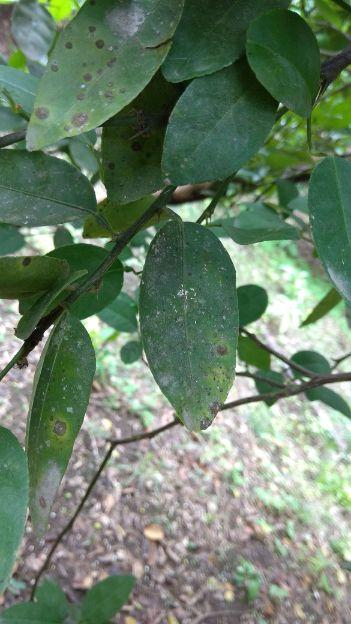Myzus persicae: (172, 279, 205, 318)
